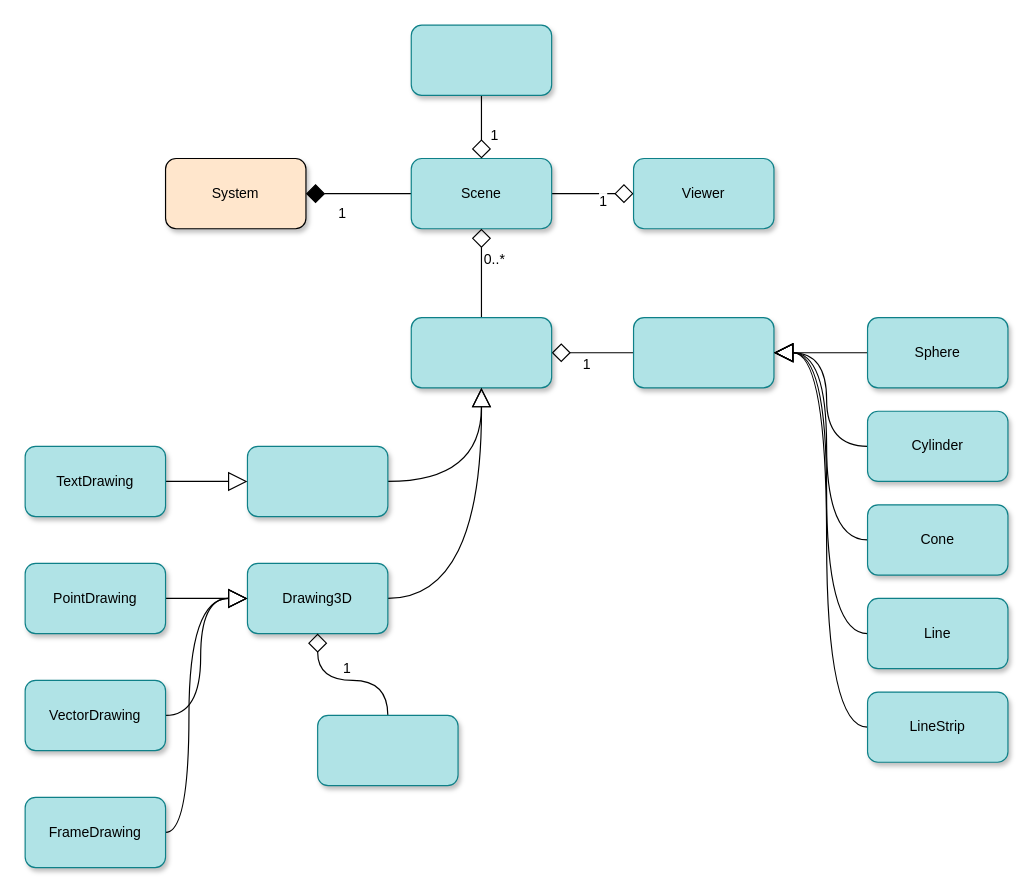
This 1035x896 diagram has some shape labels left out. The centre of each missing label's shape, as x and y in pixels:
"Drawing" goes at (482,354).
"Drawing2D" goes at (318,483).
"Geometry" goes at (704,354).
"Simulation" goes at (482,61).
"Transform" goes at (388,752).
